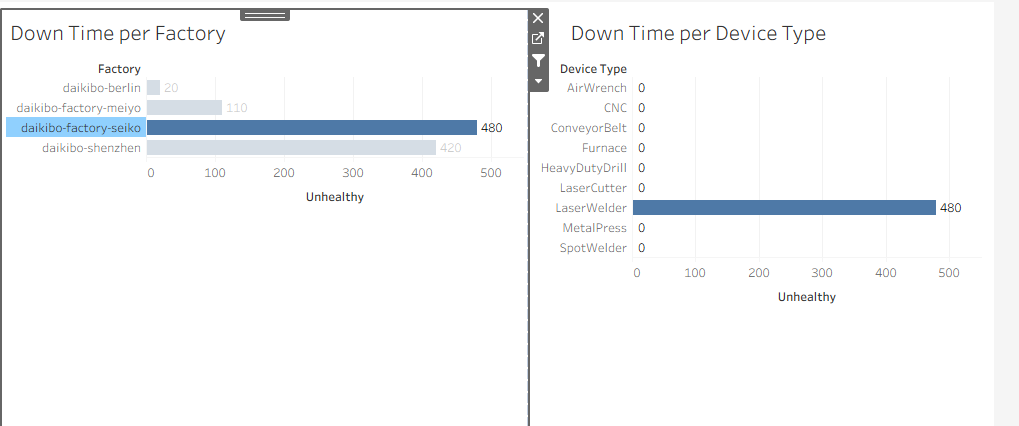

Layout of this report page (visuals, bound fields, positions):
{"tool":"tableau","page":{"name":"Dashboard 1","canvas":[1000,800],"ordinal":0},"visuals":[{"type":"worksheet","title":"Down Time per Factory","mark":"Automatic","rows":["factory"],"cols":["Calculation_0623164226744321"],"box":[8,8,526,784]},{"type":"worksheet","title":"        Down Time per Device Type","mark":"Automatic","rows":["deviceType"],"cols":["Calculation_0623164226744321"],"box":[534,8,458,784]}]}

Visuals, with their boxes on the page's 1000x800 design canvas (x1, y1, x2, y2). These are canvas units, not pixel positions in the 1019x426 screenshot, which may show the page scaled, cropped or inside an application window:
"Down Time per Factory" worksheet: 8, 8, 534, 792
"        Down Time per Device Type" worksheet: 534, 8, 992, 792
